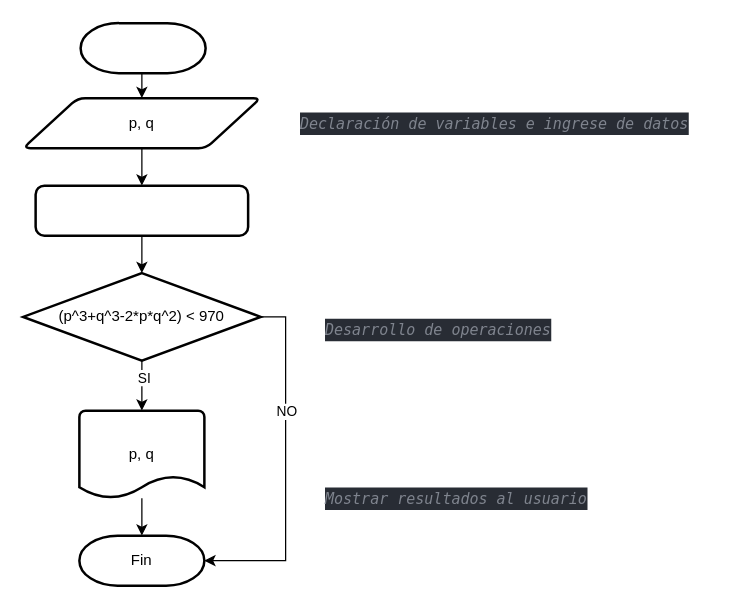
The diagram is 744 pixels wide and 608 high, and some of its shapes have lost their labels. The shapes that lost their labels are listed below. From the top down, each one's box as (x1, y1, x2, y2) in pixels, then its label:
(79, 21, 206, 74): Inicio
(34, 184, 249, 236): r = p^3+q^3-2*p*q^2
